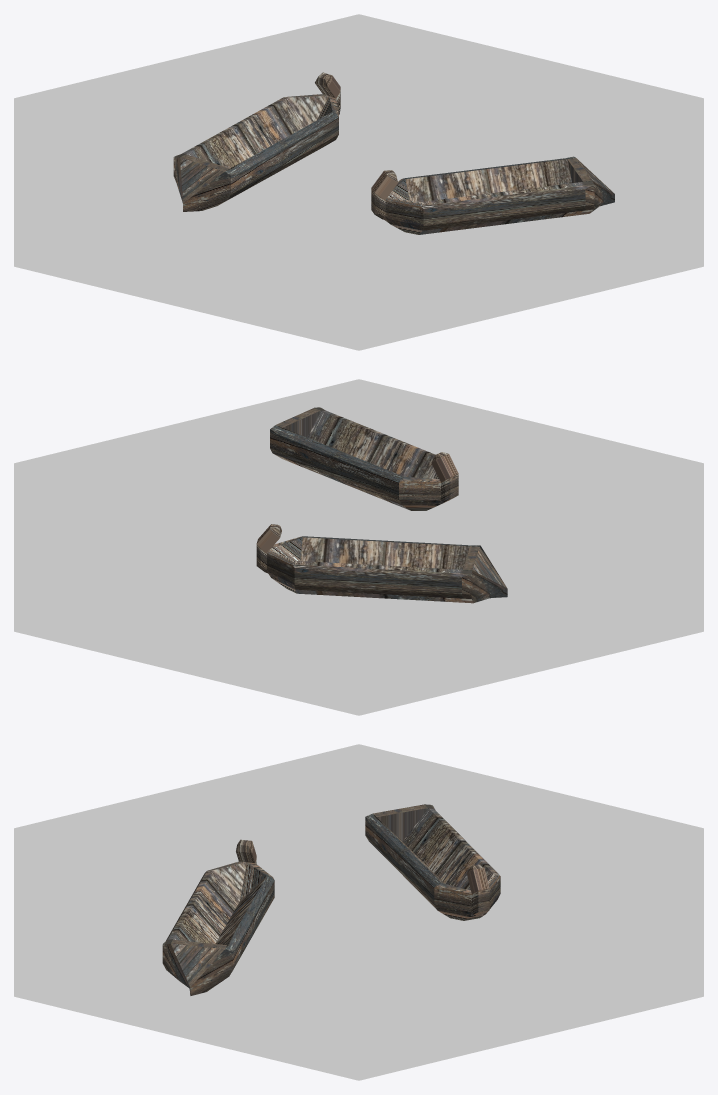
Rendered from fishingboat.glb.
The picture shows the model from 3 angles, top to bottom: view 1: azimuth 30°, elevation 25°; view 2: azimuth 150°, elevation 25°; view 3: azimuth 270°, elevation 25°; orthographic projection.
Parts seen in each view (by area): view 1: Hex, Building.001, Building; view 2: Hex, Building, Building.001; view 3: Hex, Building.001, Building.
Part boxes in pixels (bbox=[...]): Hex: bbox=[14, 14, 703, 350]; Building.001: bbox=[371, 156, 614, 234]; Building: bbox=[173, 72, 340, 211]; Hex: bbox=[14, 379, 703, 715]; Building: bbox=[256, 524, 507, 603]; Building.001: bbox=[270, 407, 458, 510]; Hex: bbox=[14, 744, 703, 1080]; Building.001: bbox=[162, 839, 274, 995]; Building: bbox=[365, 804, 500, 920].
Bounding box in the file's own units: 13.33 × 1.21 × 11.55.
2 materials, 2 textured.
